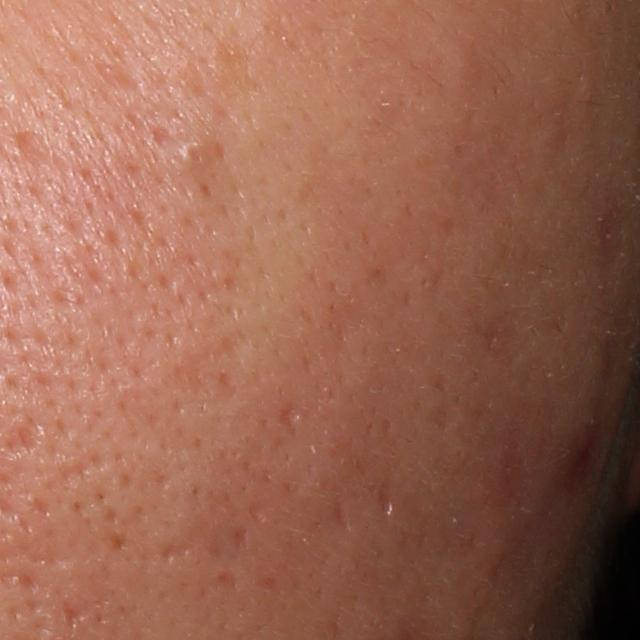atrophic_scar: (172, 330, 250, 400), (8, 125, 56, 176), (61, 595, 96, 634), (8, 424, 39, 460), (211, 568, 248, 595), (276, 398, 301, 437), (163, 539, 201, 563), (332, 492, 354, 533), (231, 524, 254, 558), (376, 484, 397, 516)
comedo: (175, 130, 213, 174)
